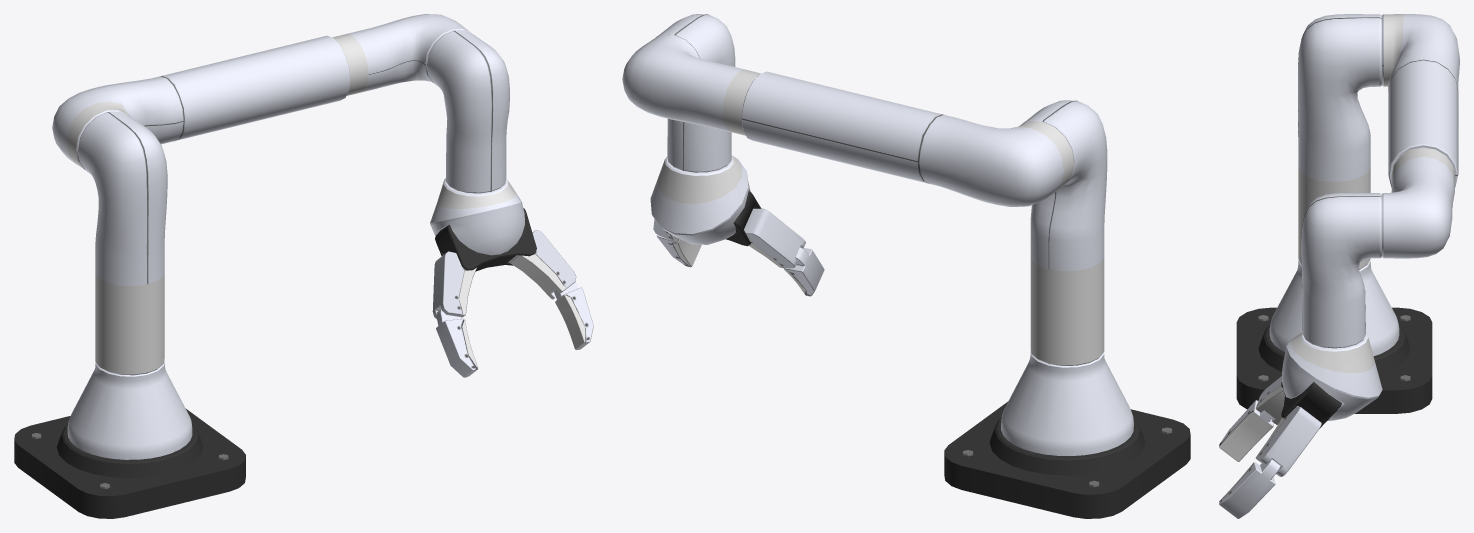
File: Robotarm (1).fbx
3 views of the same model, side by side, from view 1: azimuth 30°, elevation 25°; view 2: azimuth 150°, elevation 25°; view 3: azimuth 270°, elevation 25° (orthographic). The views are drawn at different scales.
Visible parts, largest first — view 1: RobotArm_1, RobotArm_2, RobotBase, RobotArm_4, RobotArm_0, RobotArm_Grip, RobotArm_3, RobotFinger_AR, RobotFinger_AL, RobotFinger_BL, RobotFinger_BR; view 2: RobotArm_2, RobotArm_1, RobotBase, RobotArm_0, RobotArm_3, RobotArm_Grip, RobotArm_4, RobotFinger_AL, RobotFinger_BL, RobotFinger_BR; view 3: RobotArm_1, RobotArm_4, RobotArm_2, RobotBase, RobotArm_3, RobotArm_Grip, RobotArm_0, RobotFinger_AR, RobotFinger_BR, RobotFinger_BL, RobotFinger_AL.
Boxes of the visible parts, x1,y1,x2,y2 form: RobotArm_1: (78, 111, 167, 375); RobotArm_2: (52, 35, 350, 170); RobotBase: (14, 408, 245, 518); RobotArm_4: (426, 30, 509, 193); RobotArm_0: (67, 360, 192, 459); RobotArm_Grip: (430, 178, 536, 271); RobotArm_3: (332, 14, 471, 95); RobotFinger_AR: (508, 230, 576, 299); RobotFinger_AL: (432, 251, 476, 318); RobotFinger_BL: (436, 309, 477, 377); RobotFinger_BR: (553, 281, 593, 349); RobotArm_2: (741, 71, 1074, 206); RobotArm_1: (1021, 100, 1107, 365); RobotBase: (944, 402, 1190, 518); RobotArm_0: (1001, 350, 1133, 455); RobotArm_3: (622, 34, 760, 135); RobotArm_Grip: (650, 155, 761, 246); RobotArm_4: (655, 14, 735, 172); RobotFinger_AL: (744, 208, 805, 268); RobotFinger_BL: (783, 247, 824, 296); RobotFinger_BR: (656, 234, 701, 267); RobotArm_1: (1298, 14, 1381, 269); RobotArm_4: (1301, 193, 1381, 348); RobotArm_2: (1382, 14, 1459, 187); RobotBase: (1236, 307, 1432, 413); RobotArm_3: (1382, 147, 1455, 258); RobotArm_Grip: (1281, 332, 1382, 428); RobotArm_0: (1269, 260, 1399, 355); RobotFinger_AR: (1255, 406, 1321, 476); RobotFinger_BR: (1219, 459, 1280, 518); RobotFinger_BL: (1219, 400, 1274, 461); RobotFinger_AL: (1255, 376, 1284, 424).
Bounding box in the file's own units: 1 × 0.6624 × 0.4066.
